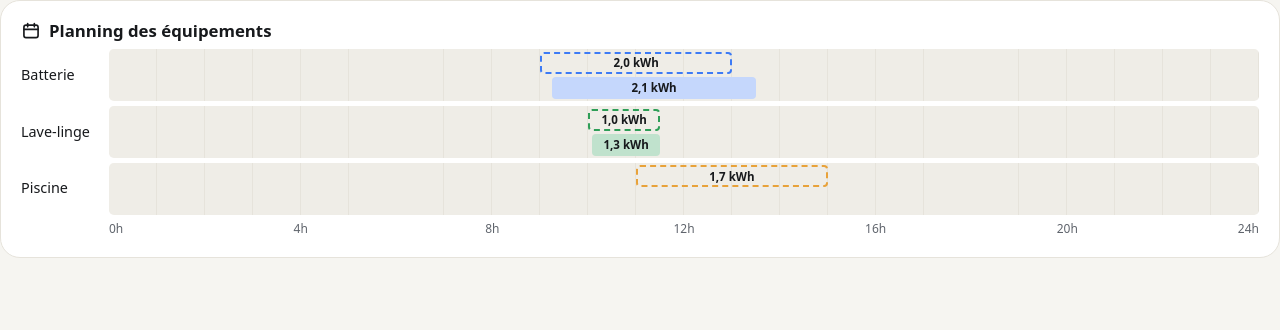
Test case: frise des équipements › affiche le détail d'une barre au toucher
The width and height of the screenshot is (1280, 330).
Click the button with aria-label "Réel 9h15".
click(654, 88)  # box [552, 77, 756, 99]
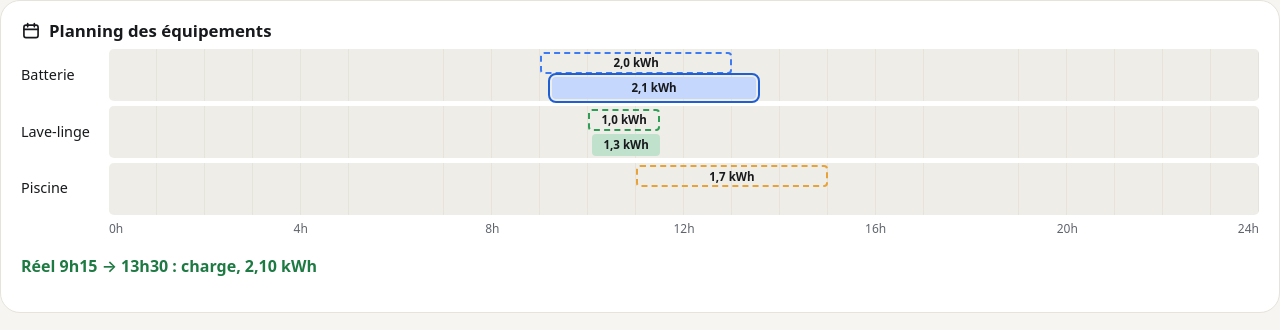
Check: the message reads "Réel 9h15 → 13h30 : charge, 2,10 kWh", box [21, 255, 317, 277]
